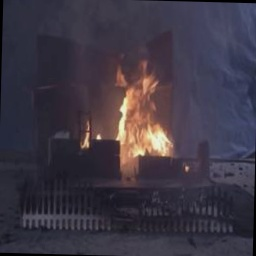fire: (106, 60, 172, 165)
